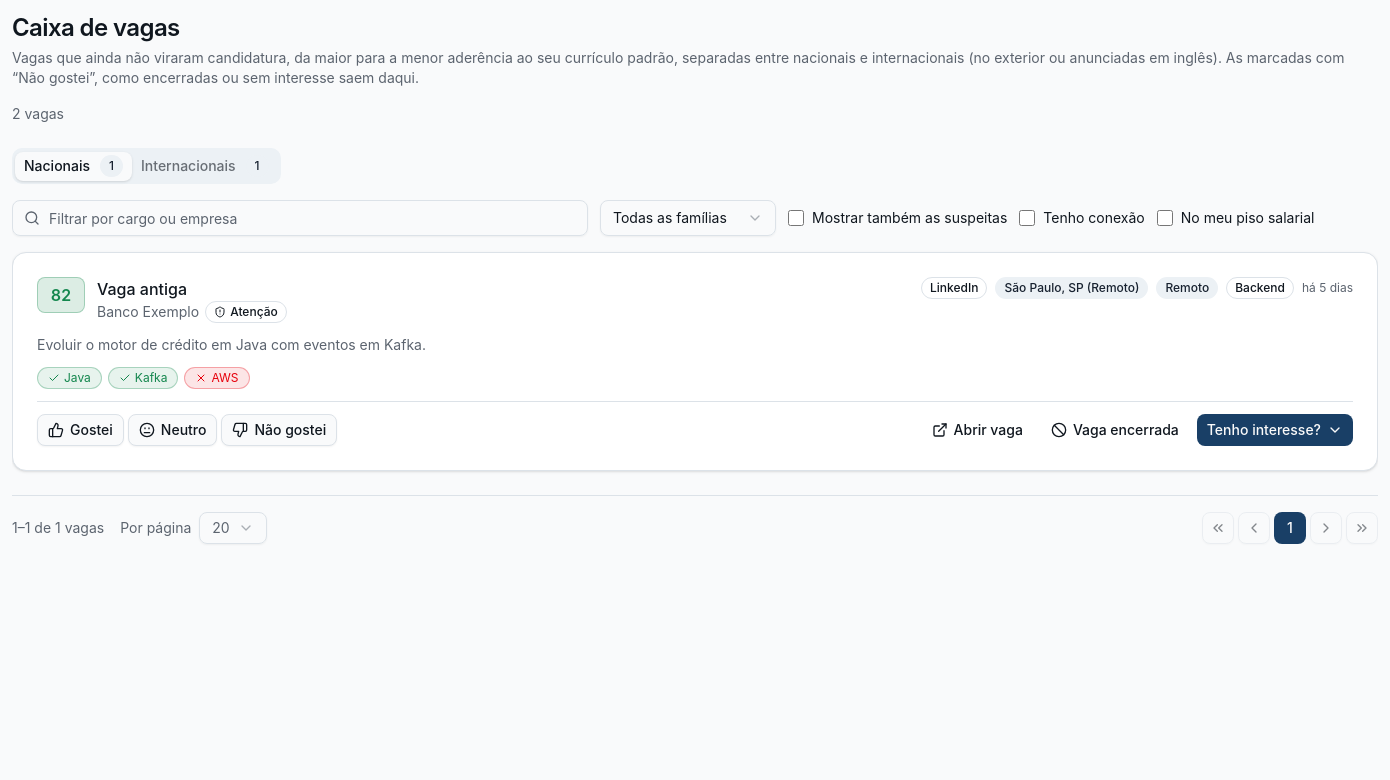
Test case: InboxPage › mostra o selo de legitimidade e inclui as suspeitas só quando pedido
expect the text "Digitador" is not shown: met
Click the checkbox labelled "Mostrar também as suspeitas" at (796, 218), box [788, 210, 804, 226]
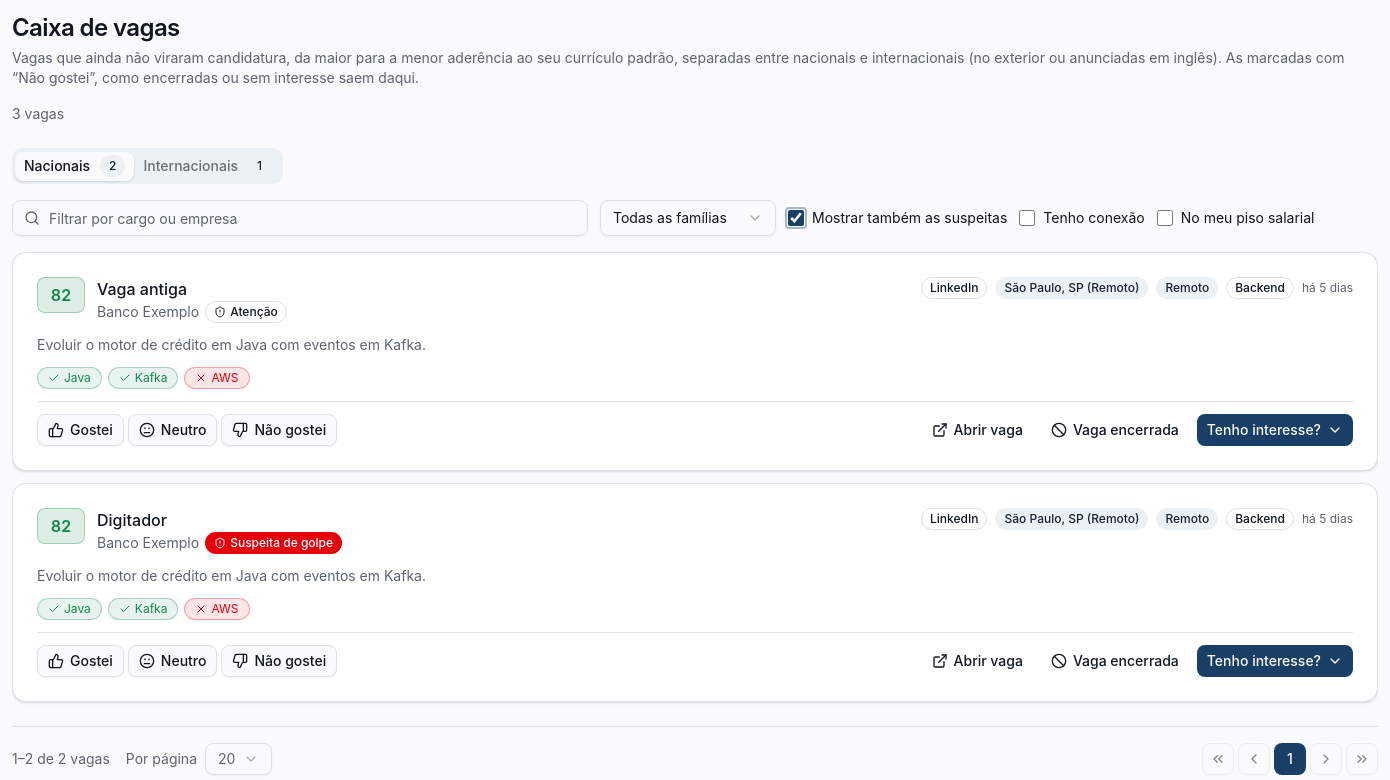
expect the text "Suspeita de golpe" is shown: met, box [205, 532, 342, 554]
